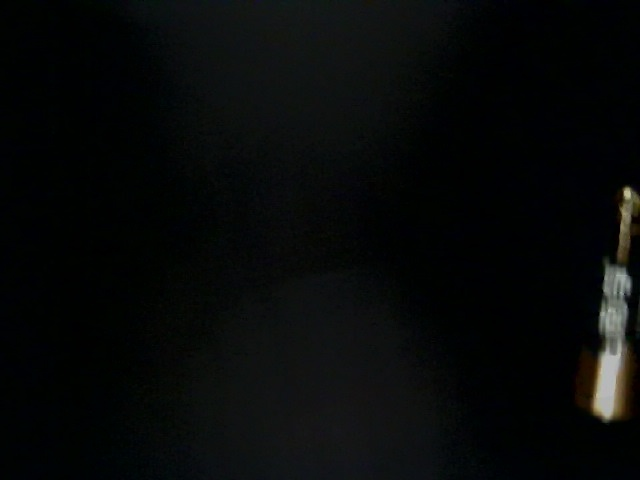YHLJ: (245, 228, 520, 306)
